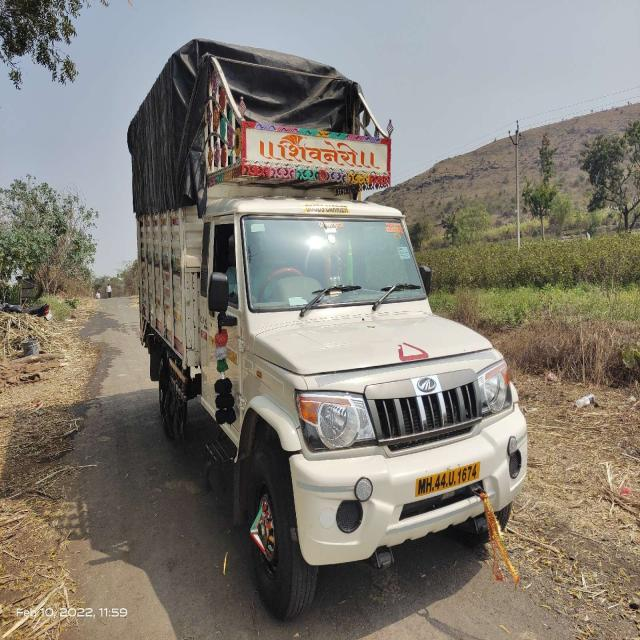light_vehicle: (198, 197, 530, 546)
